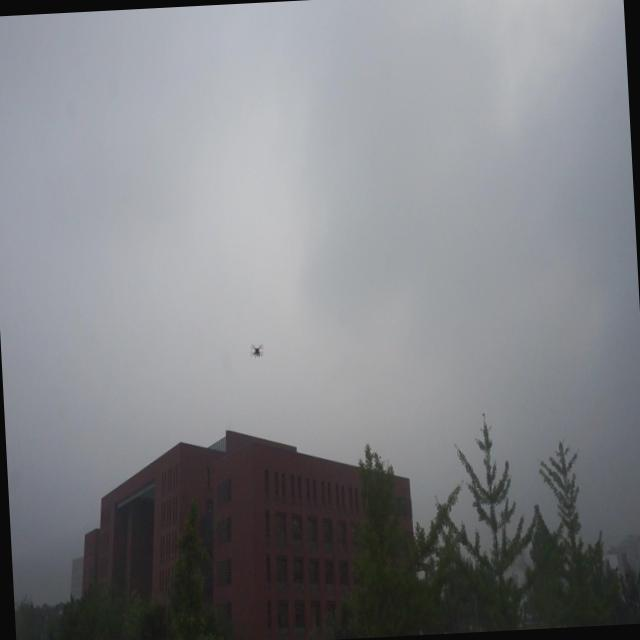drone: (248, 341, 266, 362)
